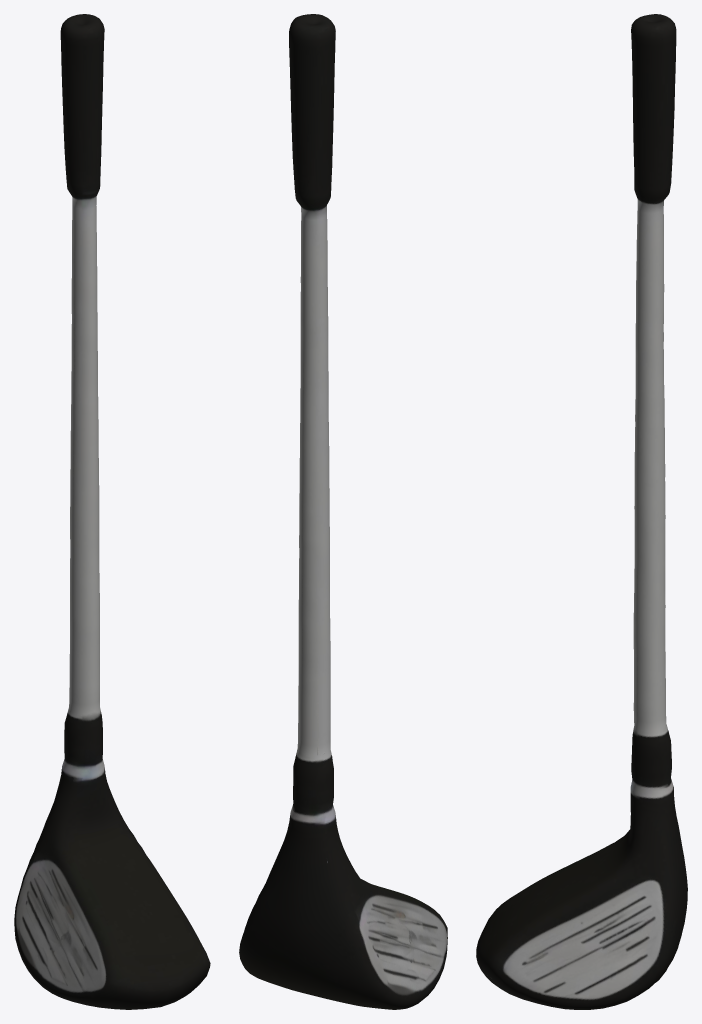
The model's file is golf_club.fbx.
3 views of the same model, side by side, from view 1: azimuth 30°, elevation 25°; view 2: azimuth 150°, elevation 25°; view 3: azimuth 270°, elevation 25° (orthographic). The views are drawn at different scales.
Parts seen in each view (by area): view 1: golf_club; view 2: golf_club; view 3: golf_club.
Part boxes in pixels (x1=…): golf_club: x1=14, y1=14, x2=210, y2=1009; golf_club: x1=239, y1=14, x2=447, y2=1009; golf_club: x1=476, y1=14, x2=687, y2=1009.
Size of the model in its own units: 16.32 by 101 by 19.92.
Materials: 1 (1 with a texture image).
